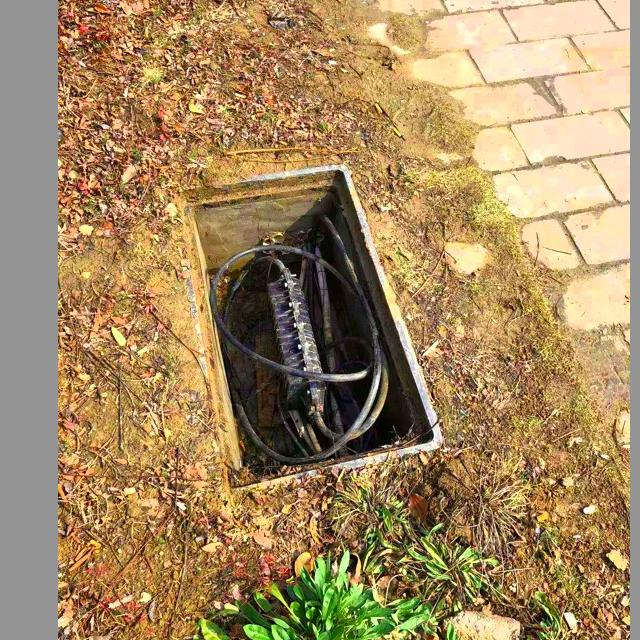lose: (170, 167, 447, 488)
